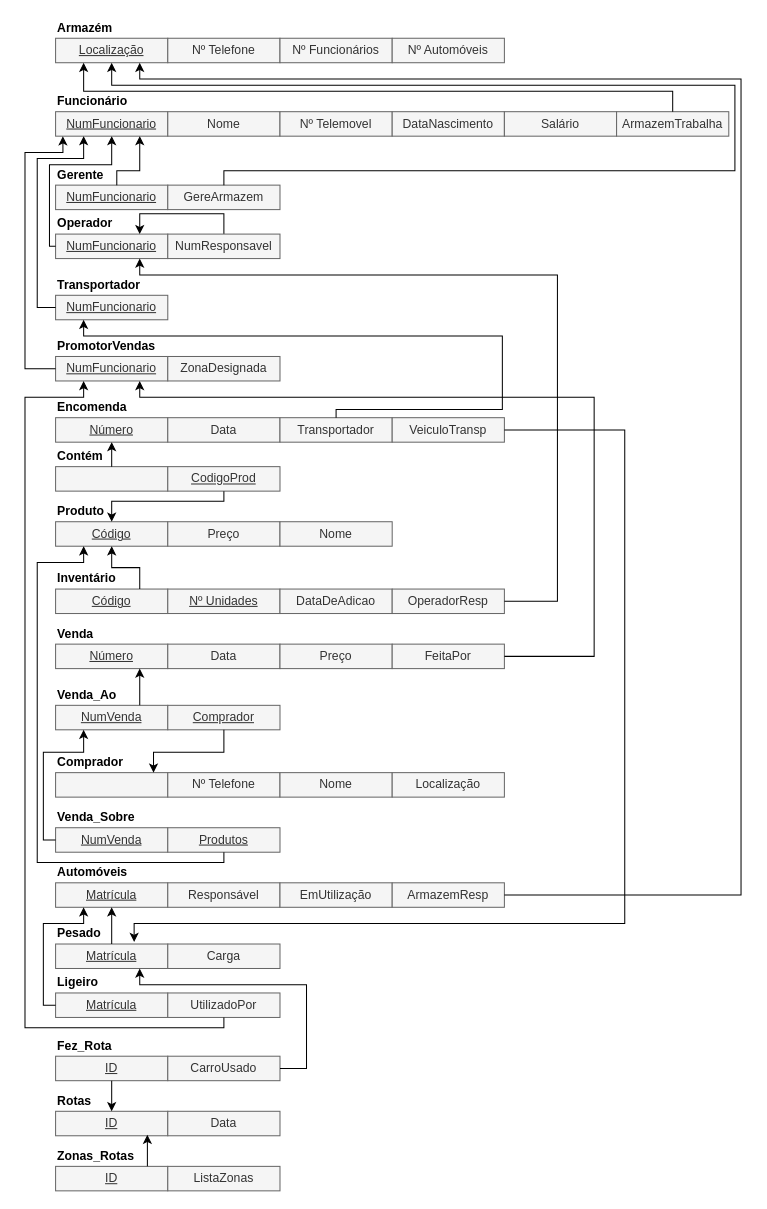
This 767x1209 diagram has some shape labels left out. The centre of each missing label's shape, as x and y in pixels:
"Nº Comprador" belongs at (x=111, y=784).
"NúmeroEncomenda" belongs at (x=111, y=478).
